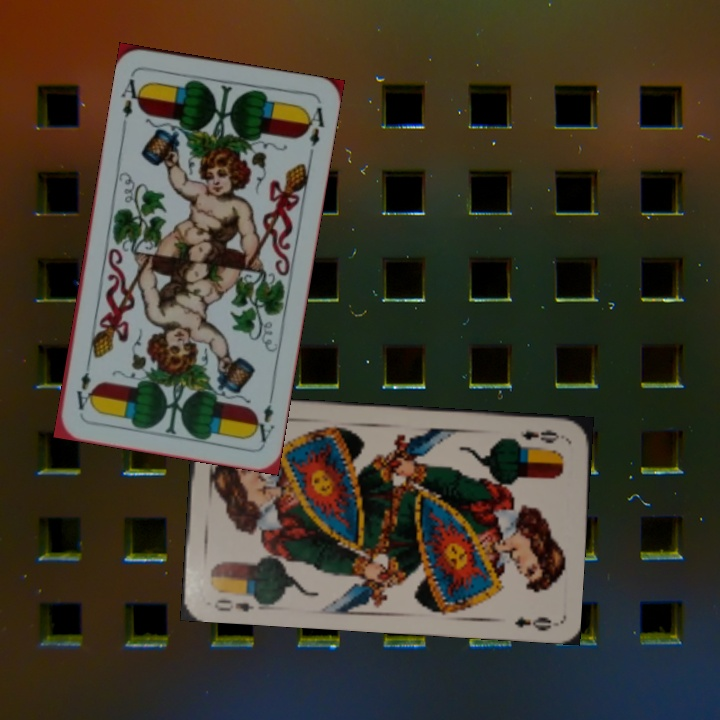EA: (249, 387, 277, 445), (117, 70, 147, 121)
EO: (507, 425, 566, 447), (210, 595, 257, 614)
